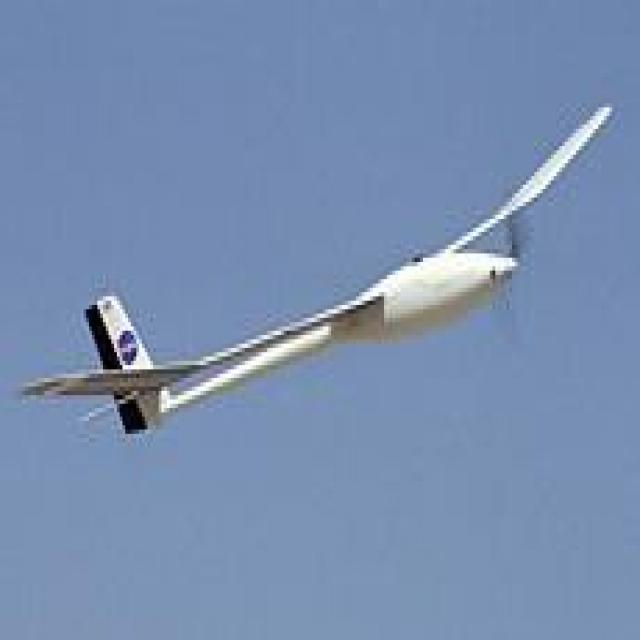iha: (20, 96, 620, 446)
